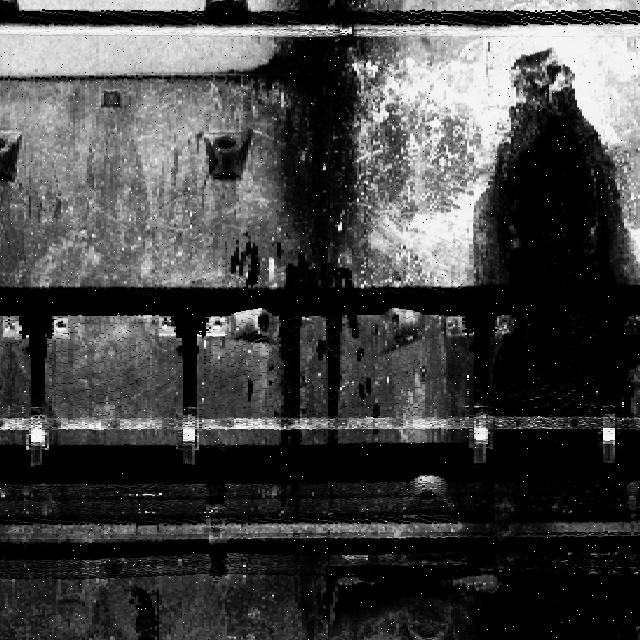leakage: (432, 42, 640, 627), (247, 0, 380, 281), (323, 309, 358, 448), (275, 299, 307, 445)
